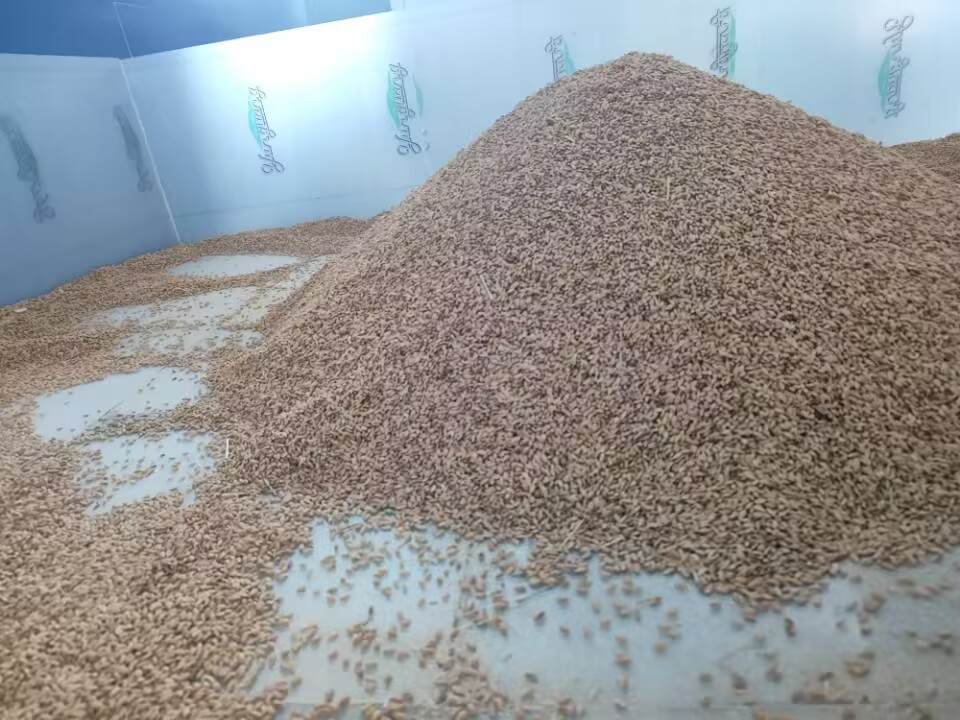Grain: (395, 5, 932, 429)
